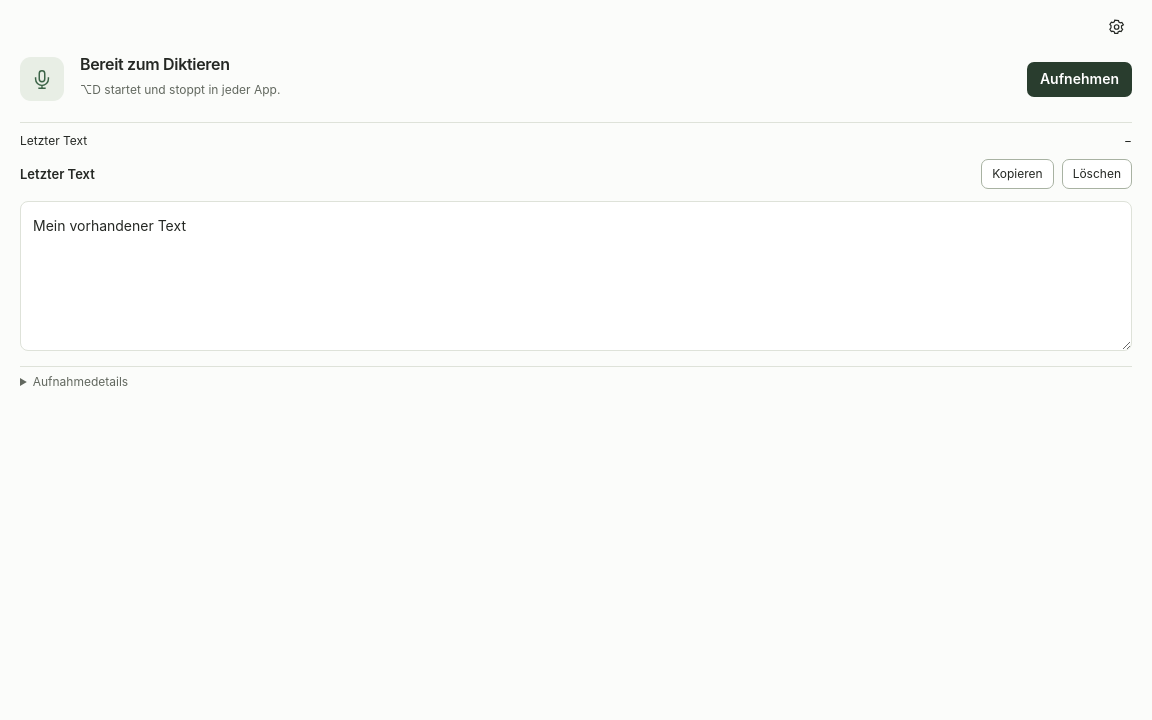
settings replace the dictation screen and restore the retained transcript on close
The image size is (1152, 720).
Click the button named "Einstellungen" at (1117, 27), box [1102,12,1132,42]
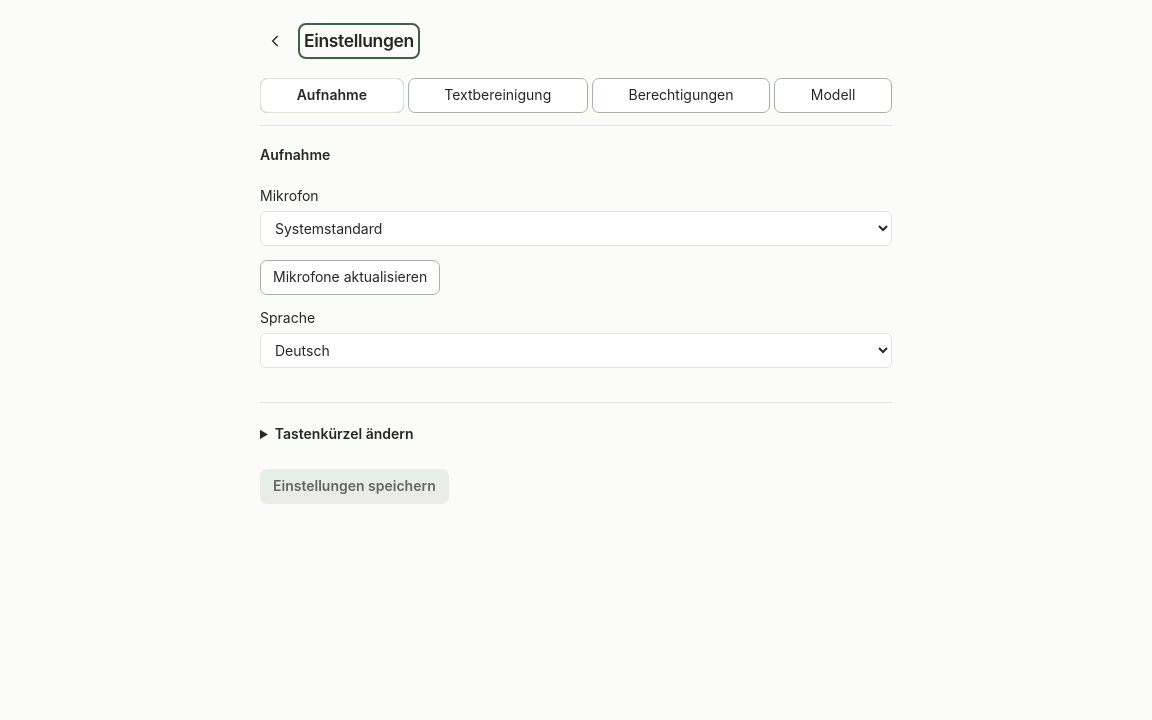
Expected: the button "Letzter Text" is gone
Expected: the heading "Einstellungen" is shown, [304,29,414,53]
Click the button named "Zurück zum Diktat" at (276, 41), box [260,24,292,58]
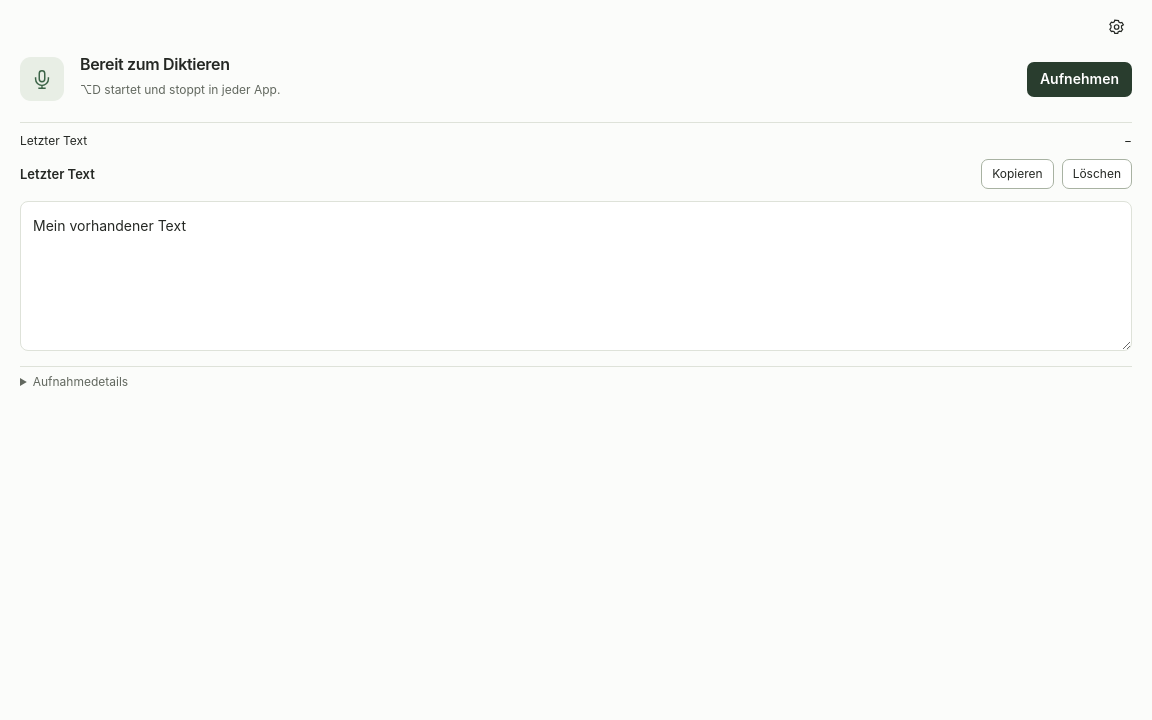
Expected: the text box labelled "Letzter Text" holds "Mein vorhandener Text", [20,201,1132,351]
